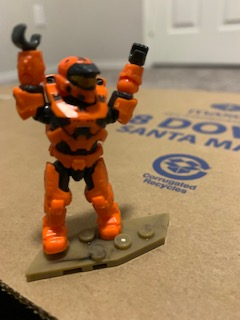spartan: (6, 21, 151, 255)
up: (5, 22, 151, 153)
